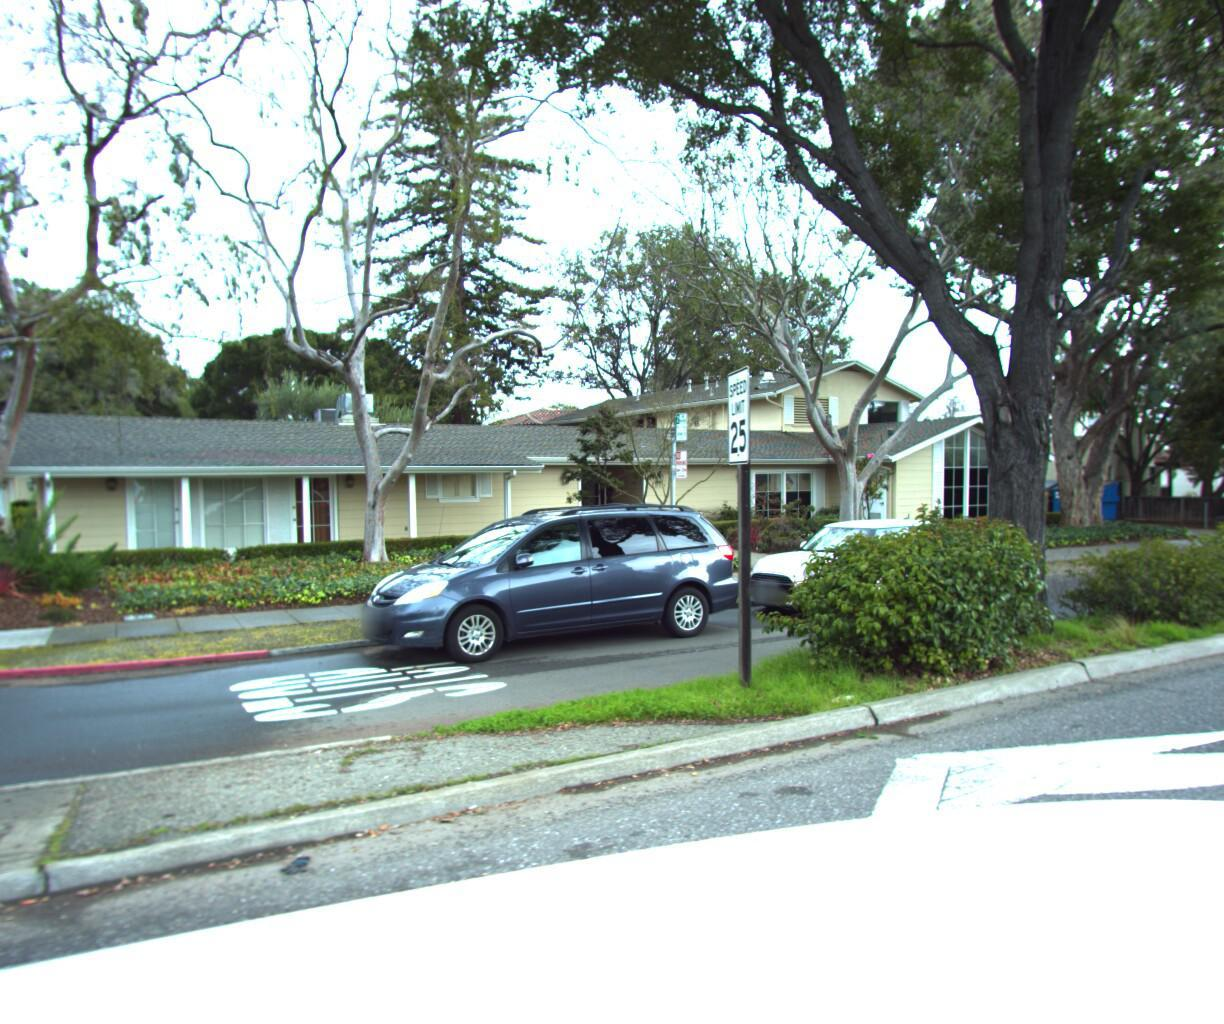car: (336, 498, 741, 683), (734, 509, 984, 630)
